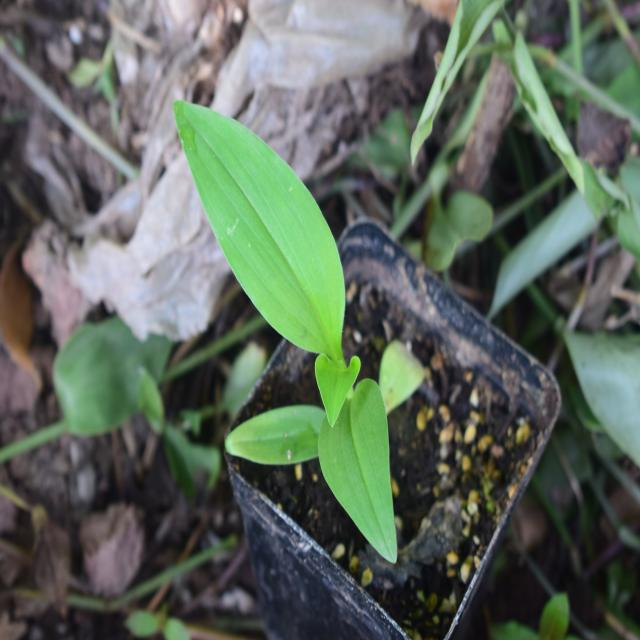Common Dayflower: (176, 96, 401, 551)
